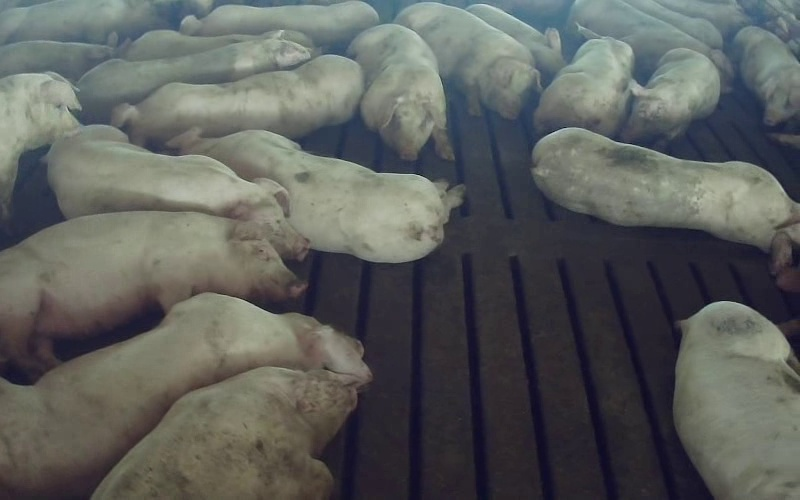pig: (0, 293, 370, 497), (0, 211, 303, 378), (168, 130, 464, 261), (532, 128, 799, 273), (47, 125, 308, 259), (673, 302, 799, 499), (111, 55, 363, 145), (77, 38, 310, 123), (394, 2, 540, 118), (567, 0, 732, 91), (347, 24, 453, 159), (534, 37, 633, 136), (180, 0, 378, 46), (467, 4, 564, 81), (0, 0, 169, 44), (733, 26, 799, 125), (0, 32, 117, 83)
